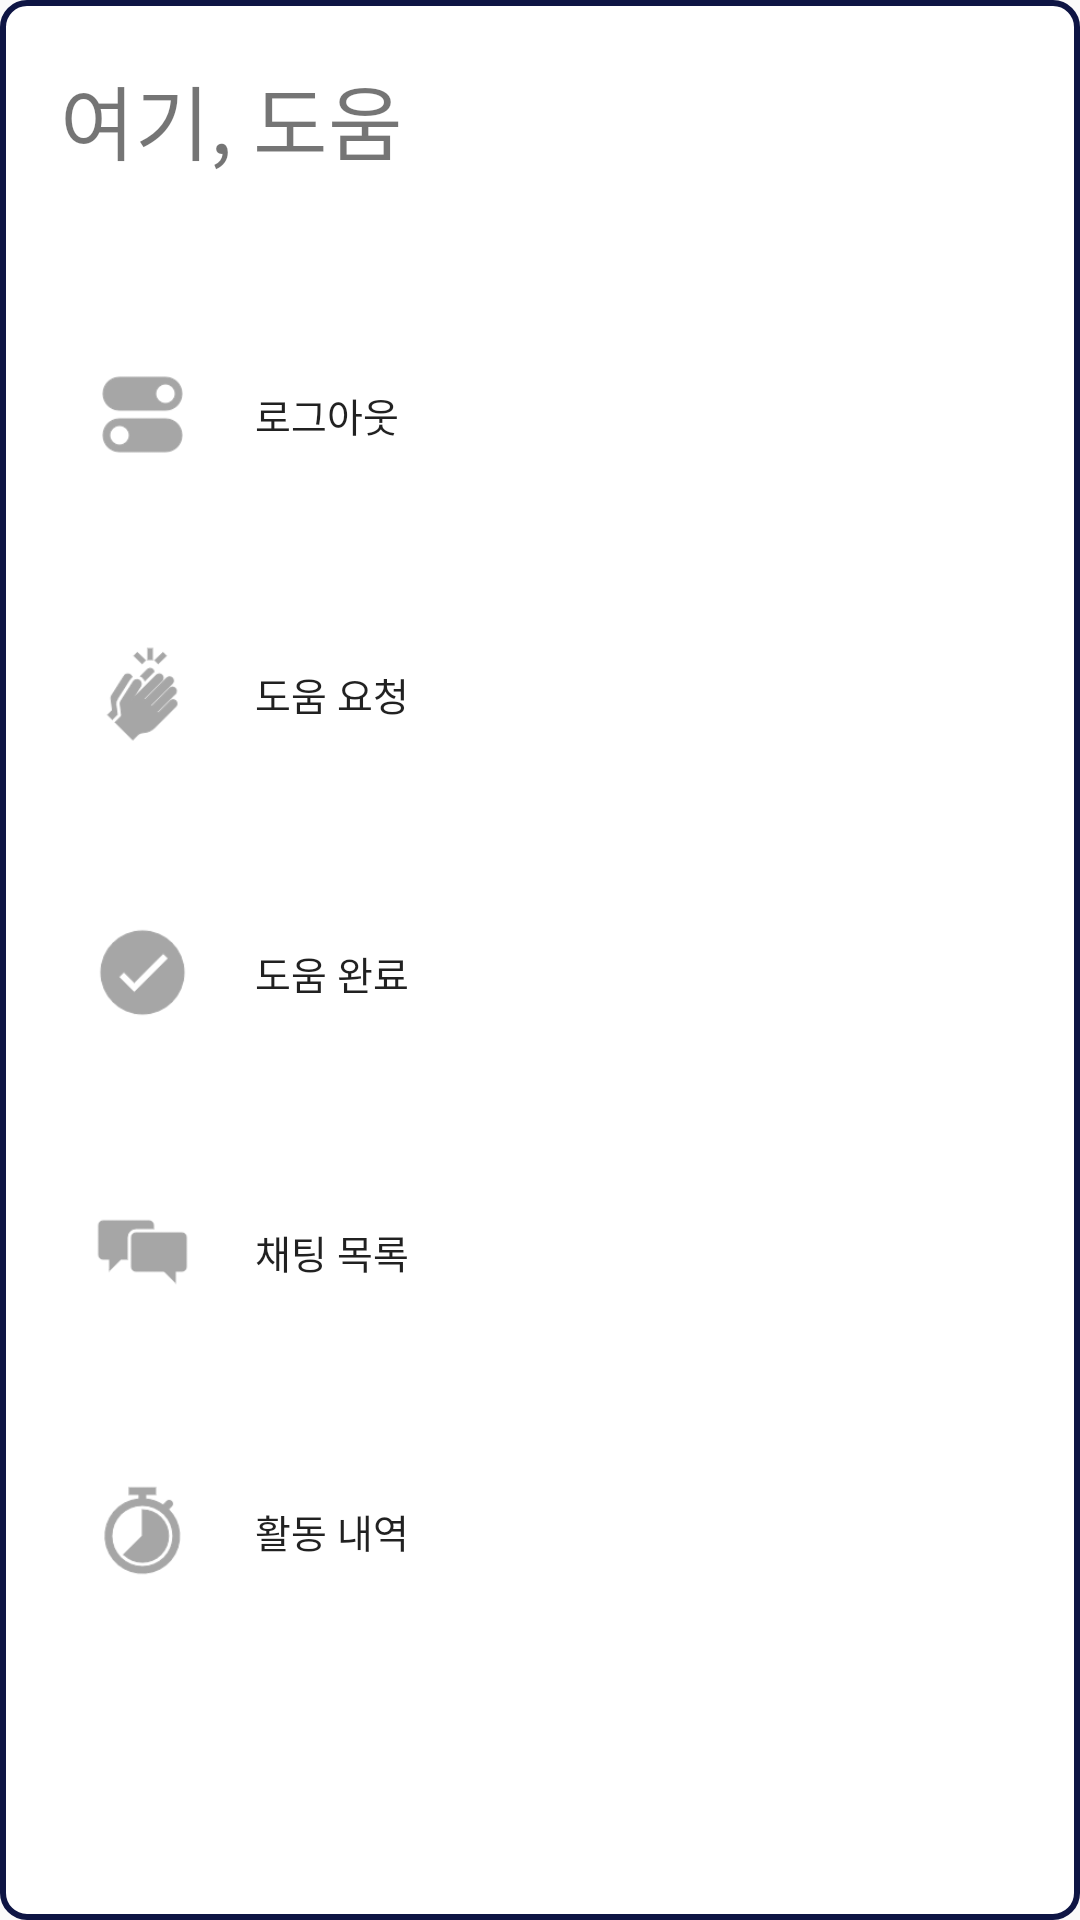

Screen size 1080 x 1920. Icon name, then its center in pixels as (x,y):
chatting: (142,1251)
completehelp: (142,972)
help request: (142,694)
record: (142,1530)
